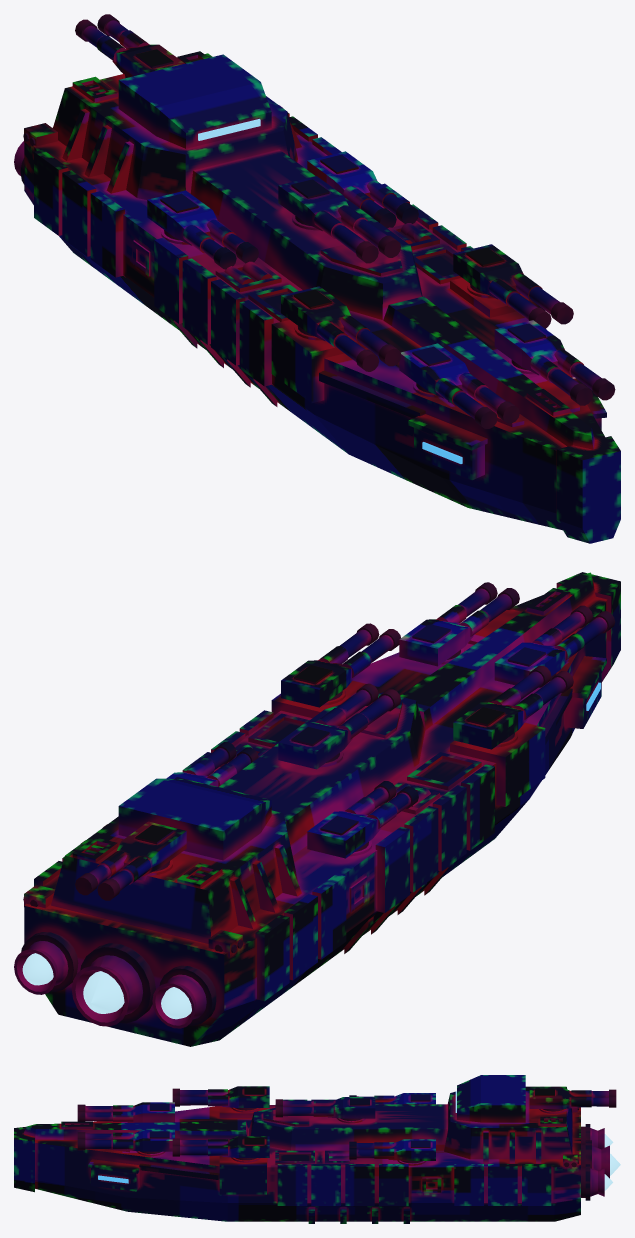
File: broadside_wreck.glb
The picture shows the model from 3 angles, top to bottom: view 1: azimuth 30°, elevation 25°; view 2: azimuth 150°, elevation 25°; view 3: azimuth 270°, elevation 25°; orthographic projection. The views are drawn at different scales.
Parts seen in each view (by area): view 1: broadside_wreck_07, broadside_wreck_01, broadside_wreck_00, broadside_wreck_02, broadside_wreck_10, broadside_wreck_04, broadside_wreck_06, broadside_wreck_08, broadside_wreck_03, broadside_wreck_11; view 2: broadside_wreck_01, broadside_wreck_08, broadside_wreck_07, broadside_wreck_00, broadside_wreck_03, broadside_wreck_02, broadside_wreck_04, broadside_wreck_05, broadside_wreck_10, broadside_wreck_06, broadside_wreck_11; view 3: broadside_wreck_04, broadside_wreck_06, broadside_wreck_11, broadside_wreck_02, broadside_wreck_10, broadside_wreck_05, broadside_wreck_09, broadside_wreck_00, broadside_wreck_03, broadside_wreck_01, broadside_wreck_07, broadside_wreck_08.
Part boxes in pixels (x1,y1,x2,y2): broadside_wreck_07: (52, 72, 253, 325); broadside_wreck_01: (143, 176, 368, 404); broadside_wreck_00: (251, 263, 487, 478); broadside_wreck_02: (382, 309, 604, 517); broadside_wreck_10: (476, 376, 620, 543); broadside_wreck_04: (329, 211, 573, 341); broadside_wreck_06: (245, 100, 438, 235); broadside_wreck_08: (14, 110, 139, 301); broadside_wreck_03: (58, 14, 214, 115); broadside_wreck_11: (203, 54, 341, 163); broadside_wreck_01: (271, 712, 482, 966); broadside_wreck_08: (91, 888, 307, 1046); broadside_wreck_07: (165, 782, 364, 991); broadside_wreck_00: (401, 665, 573, 869); broadside_wreck_03: (60, 804, 235, 979); broadside_wreck_02: (378, 592, 610, 765); broadside_wreck_04: (216, 623, 415, 756); broadside_wreck_05: (14, 872, 110, 1026); broadside_wreck_10: (474, 572, 620, 682); broadside_wreck_06: (166, 742, 278, 799); broadside_wreck_11: (34, 778, 183, 888); broadside_wreck_04: (172, 1099, 341, 1221); broadside_wreck_06: (341, 1104, 469, 1223); broadside_wreck_11: (457, 1095, 556, 1221); broadside_wreck_02: (83, 1102, 187, 1217); broadside_wreck_10: (14, 1104, 95, 1203); broadside_wreck_05: (516, 1138, 620, 1221); broadside_wreck_09: (237, 1144, 387, 1223); broadside_wreck_00: (170, 1086, 293, 1139); broadside_wreck_03: (510, 1081, 616, 1154); broadside_wreck_01: (293, 1093, 421, 1129); broadside_wreck_07: (421, 1075, 538, 1119); broadside_wreck_08: (570, 1107, 619, 1163).
Bounding box in the file's own units: 3.04 × 2.47 × 11.51.
11 materials, 8 textured.
